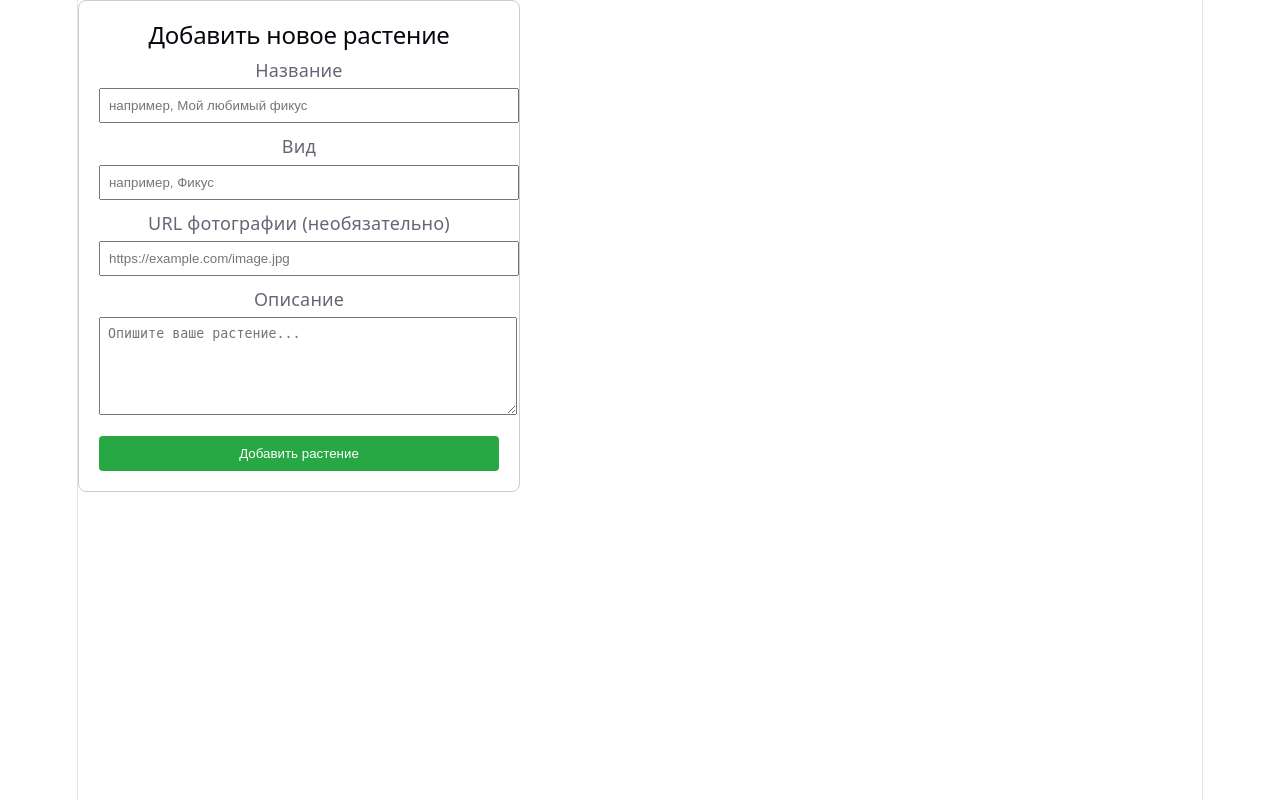
it: AddPlantForm Component › shows error if name or species is missing
Click the button "Добавить растение" at (299, 453), box [99,436,499,471]
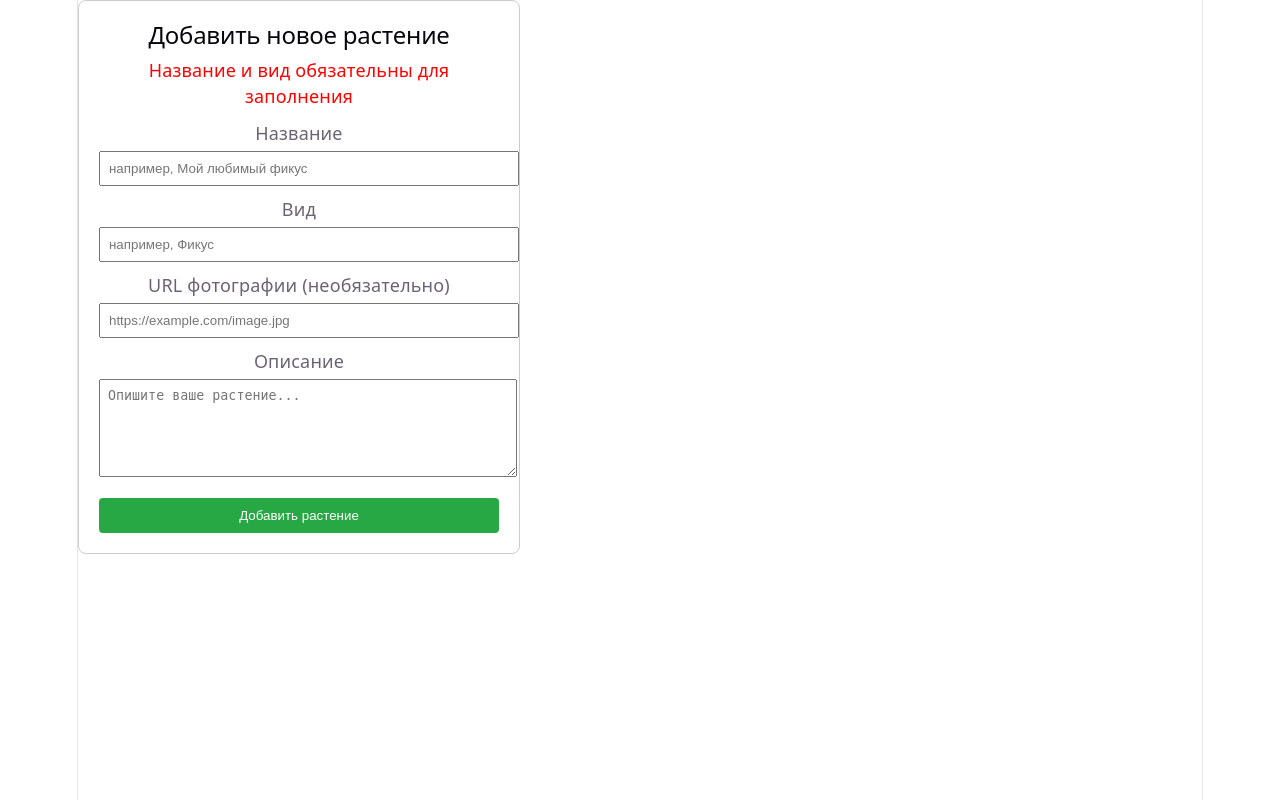
Result: the text "Название и вид обязательны для заполнения" is shown at [149,58,449,108]
